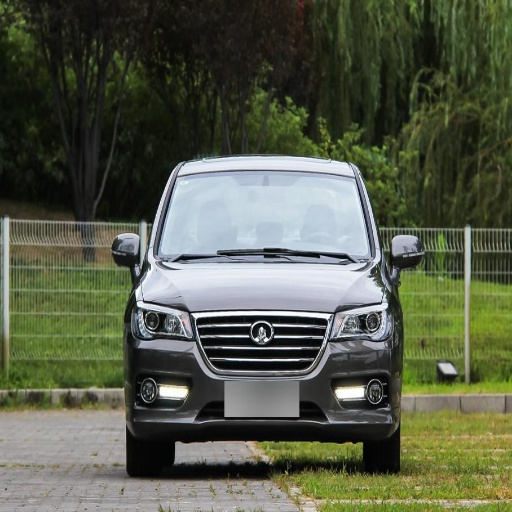front_bumper: (127, 310, 400, 439)
front_right_light: (133, 303, 190, 339)
hood: (141, 264, 384, 311)
left_mirror: (389, 234, 423, 273)
